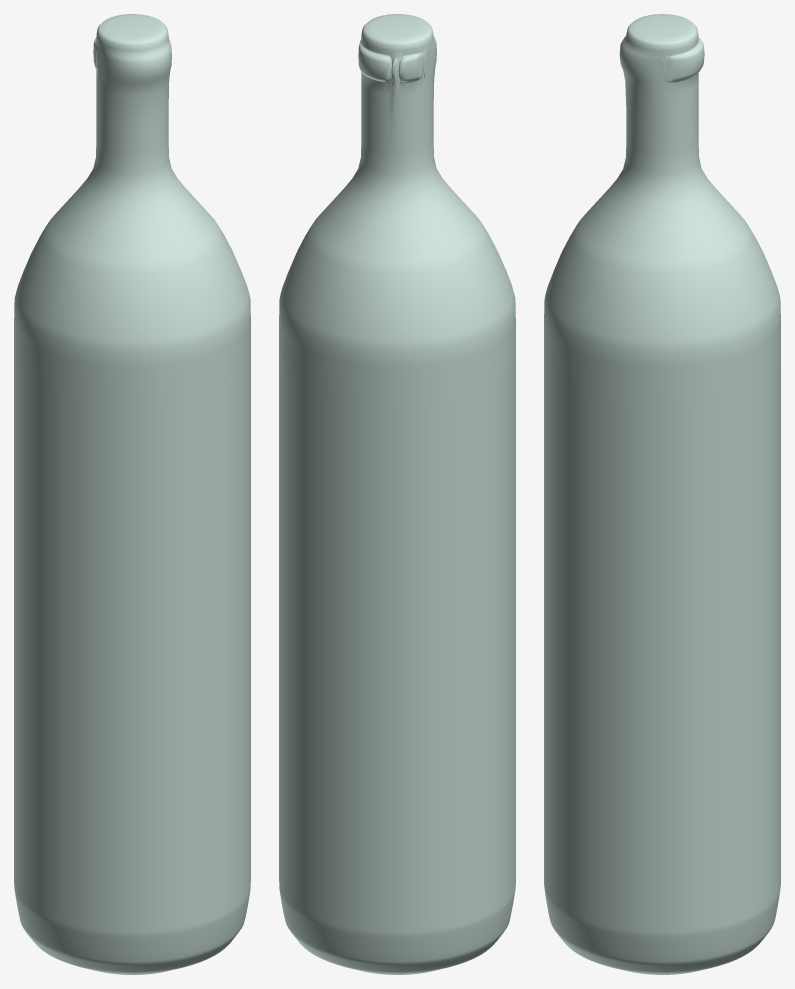
The model's file is bottle2.fbx.
The picture shows the model from 3 angles, left to right: view 1: azimuth 30°, elevation 25°; view 2: azimuth 150°, elevation 25°; view 3: azimuth 270°, elevation 25°; orthographic projection.
Visible parts, largest first — view 1: Cylinder; view 2: Cylinder; view 3: Cylinder.
Boxes of the visible parts, box(x1,y1,x2,y2) form: Cylinder: box(14, 14, 250, 974); Cylinder: box(279, 14, 515, 974); Cylinder: box(544, 14, 780, 974).
Size of the model in its own units: 6.96 by 29.99 by 6.96.
